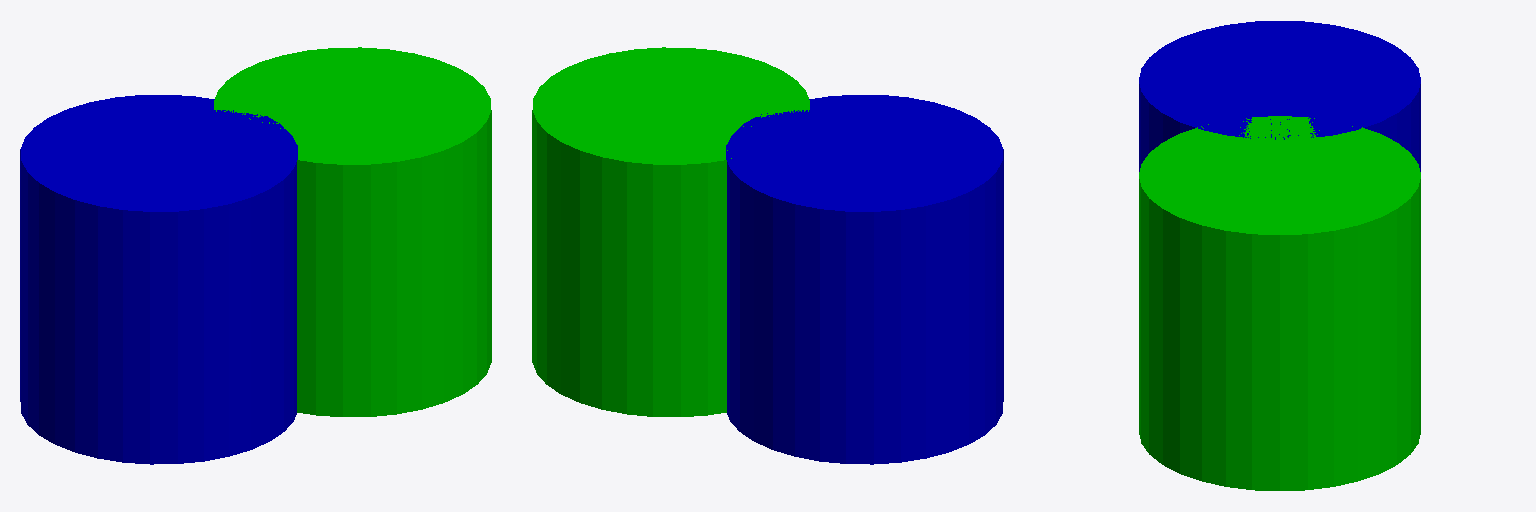
robot.urdf — A_vs_B:
<?xml version="1.0"?>
<robot name="A_vs_B">
  <material name="blue">
    <color rgba="0 0 0.8 .5"/>
  </material>
  <material name="green">
    <color rgba="0 0.8 0 .5"/>
  </material>
  <link name="A">
    <visual>
      <geometry>
        <cylinder radius=".5" length="1" />
      </geometry>
      <origin rpy="0.0 0 0" xyz="-.4 0 0"/>
      <material name="blue"/>
    </visual>
  </link>
  <link name="B">
    <visual>
      <geometry>
        <cylinder radius=".5" length="1" />
      </geometry>
      <origin rpy="0 0 0" xyz=".4 0 0"/>
      <material name="green"/>
    </visual>
  </link>
  <joint name="joint1" type="revolute">
    <axis xyz="0 0 1"/>
    <limit effort="1" lower="-1" upper="1" velocity="1"/>
    <origin rpy="0 0 0" xyz="0 0 0"/>
    <parent link="A"/>
    <child link="B"/>
  </joint>
</robot>

--- What the picture shows (computed from the rendered views, not written in the file) ---
The picture shows the robot from 3 angles, left to right: view 1: azimuth 30°, elevation 25°; view 2: azimuth 150°, elevation 25°; view 3: azimuth 270°, elevation 25°; orthographic projection.
Robot: A_vs_B — 2 links, 1 joints (1 revolute); root link A; default pose: all joints at 0.
Visible links, largest first — view 1: A, B; view 2: A, B; view 3: B, A.
Boxes of the visible links, x1=… form: A: x1=20, y1=95, x2=297, y2=464; B: x1=214, y1=47, x2=491, y2=416; A: x1=726, y1=95, x2=1003, y2=464; B: x1=532, y1=47, x2=809, y2=416; B: x1=1139, y1=116, x2=1420, y2=490; A: x1=1139, y1=21, x2=1420, y2=171.
Size in the robot's own frame: 1.8 by 1 by 1 metres.
Geometry: primitives only (box / cylinder / sphere), no mesh files.